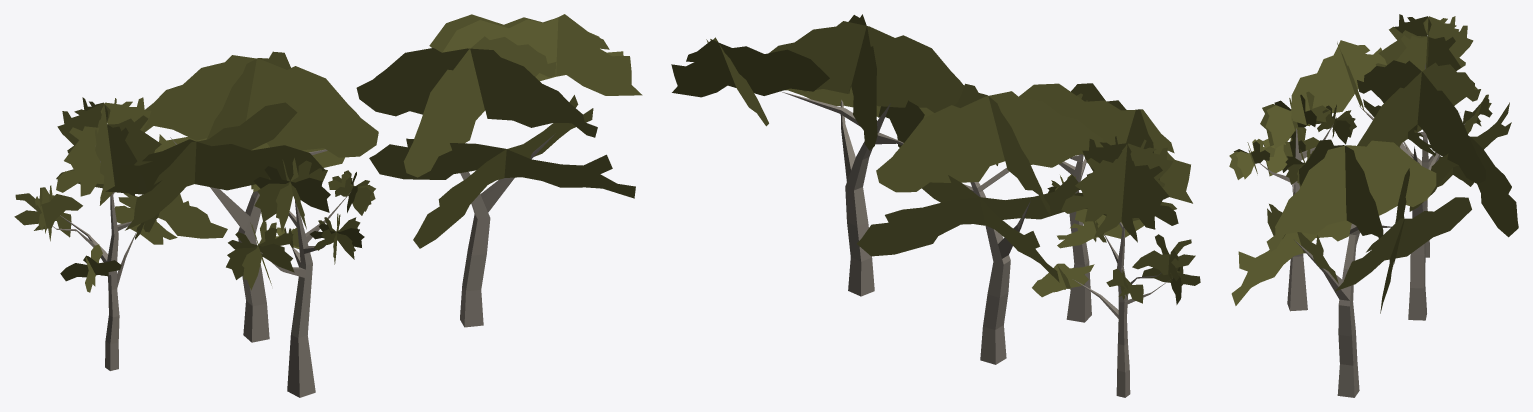
File: Tree3.fbx
The picture shows the model from 3 angles, left to right: view 1: azimuth 30°, elevation 25°; view 2: azimuth 150°, elevation 25°; view 3: azimuth 270°, elevation 25°; orthographic projection. The views are drawn at different scales.
Visible parts, largest first — view 1: Flat_half_tree.003; view 2: Flat_half_tree.003; view 3: Flat_half_tree.003.
Part boxes in pixels (x1,y1,x2,y2): Flat_half_tree.003: (14,14,642,397); Flat_half_tree.003: (671,14,1200,397); Flat_half_tree.003: (1229,14,1518,397).
Bounding box in the file's own units: 8.11 × 3.78 × 3.97.
